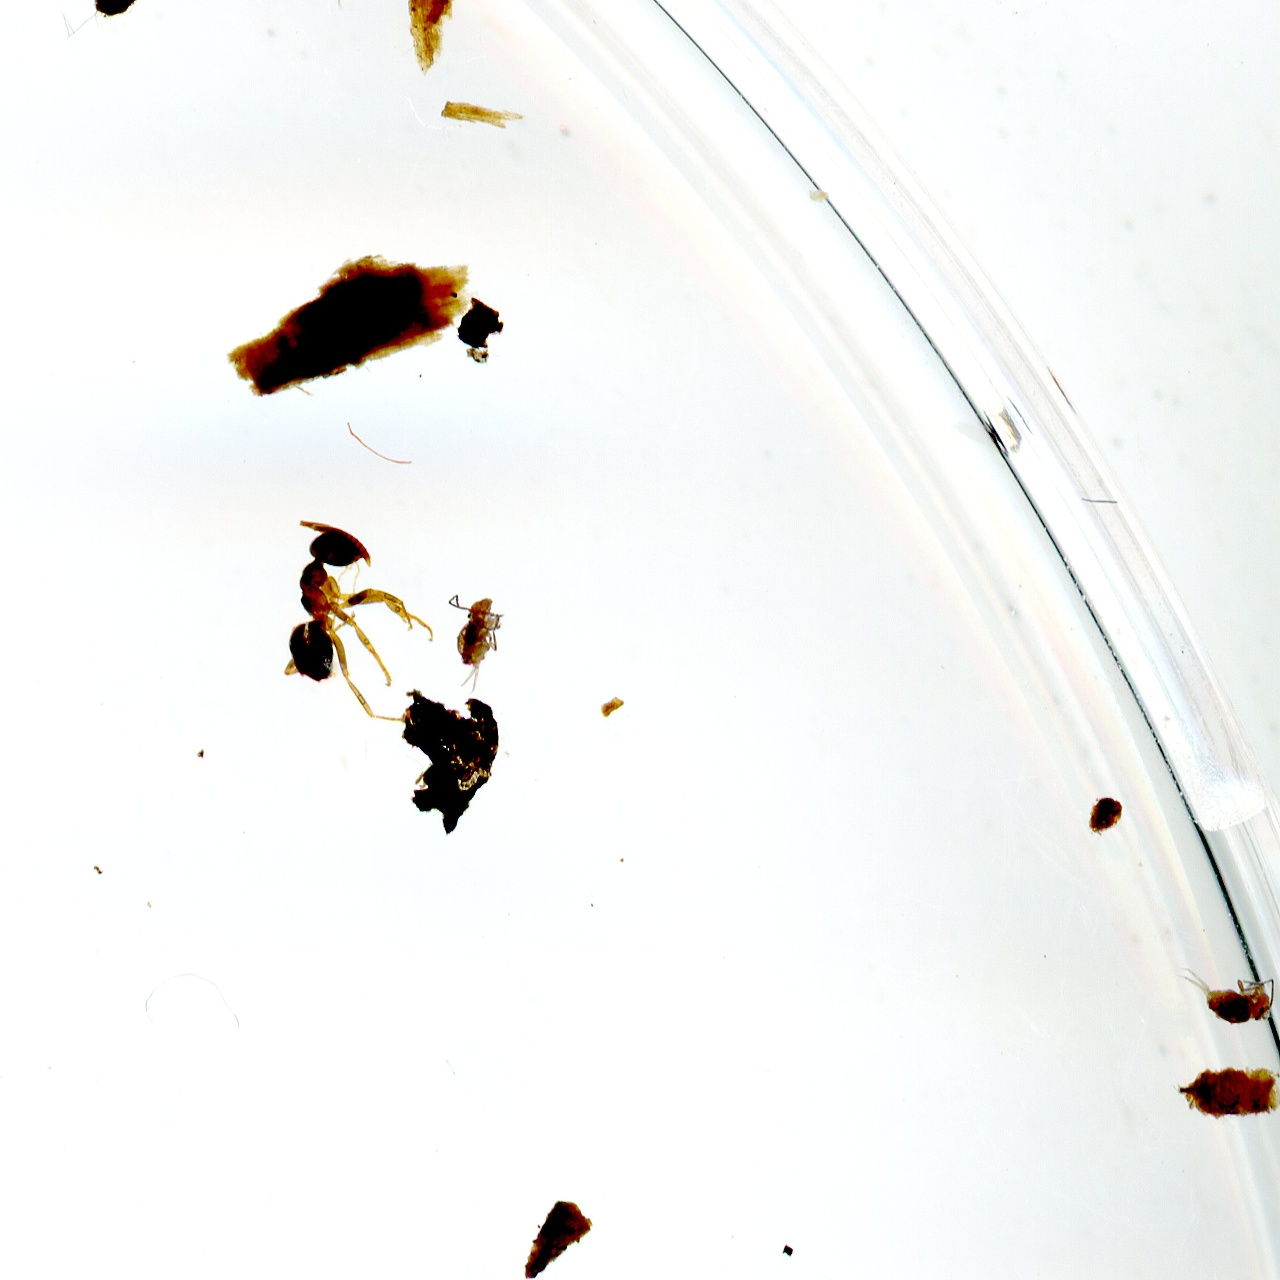arthropod: (280, 515, 438, 729), (1176, 960, 1276, 1029), (445, 590, 506, 699)
